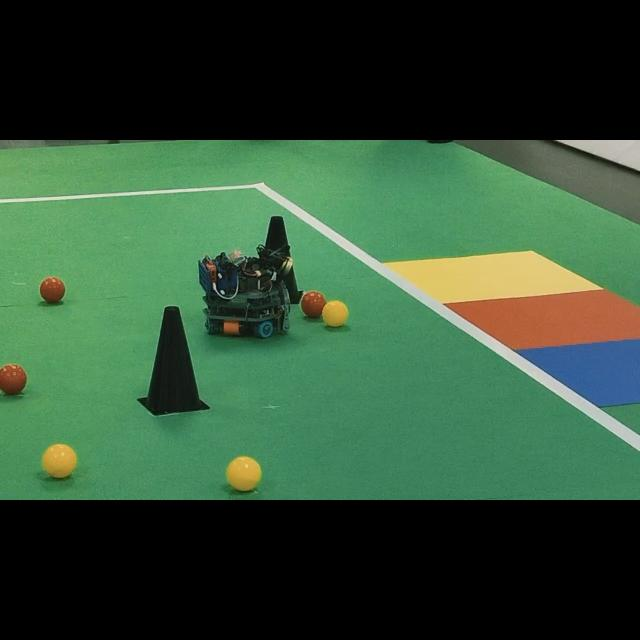ball: (226, 456, 261, 491), (42, 445, 76, 478), (0, 364, 26, 394), (322, 300, 349, 327), (301, 291, 326, 318), (40, 276, 65, 302)
goal: (448, 290, 640, 350), (385, 251, 601, 304), (518, 339, 640, 406)
